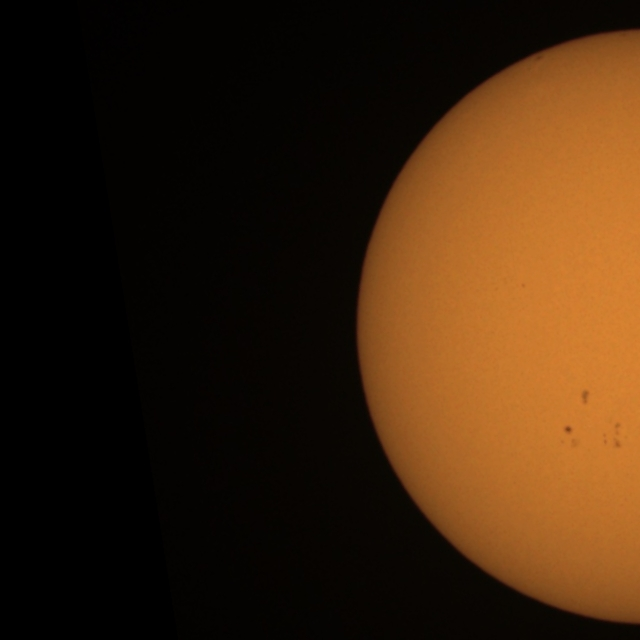sunspot: (602, 421, 628, 450), (560, 424, 580, 450), (580, 388, 590, 406), (563, 425, 574, 438)
